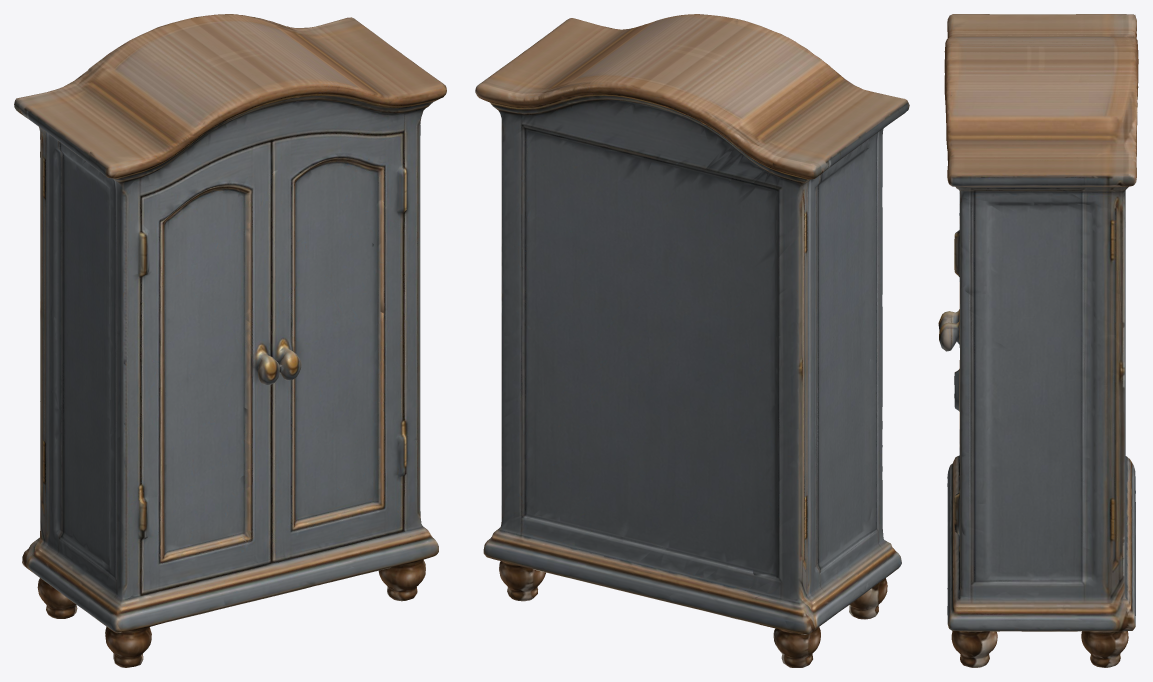
The model's file is bedroom-wardrobe.glb.
3 views of the same model, side by side, from view 1: azimuth 30°, elevation 25°; view 2: azimuth 150°, elevation 25°; view 3: azimuth 270°, elevation 25° (orthographic). The views are drawn at different scales.
Parts seen in each view (by area): view 1: geometry_0; view 2: geometry_0; view 3: geometry_0.
Boxes of the visible parts, bbox=[...] form: geometry_0: bbox=[14, 14, 446, 667]; geometry_0: bbox=[475, 14, 909, 667]; geometry_0: bbox=[938, 14, 1138, 667].
Bounding box in the file's own units: 1.27 × 1.96 × 0.6559.
1 material, 1 textured.
